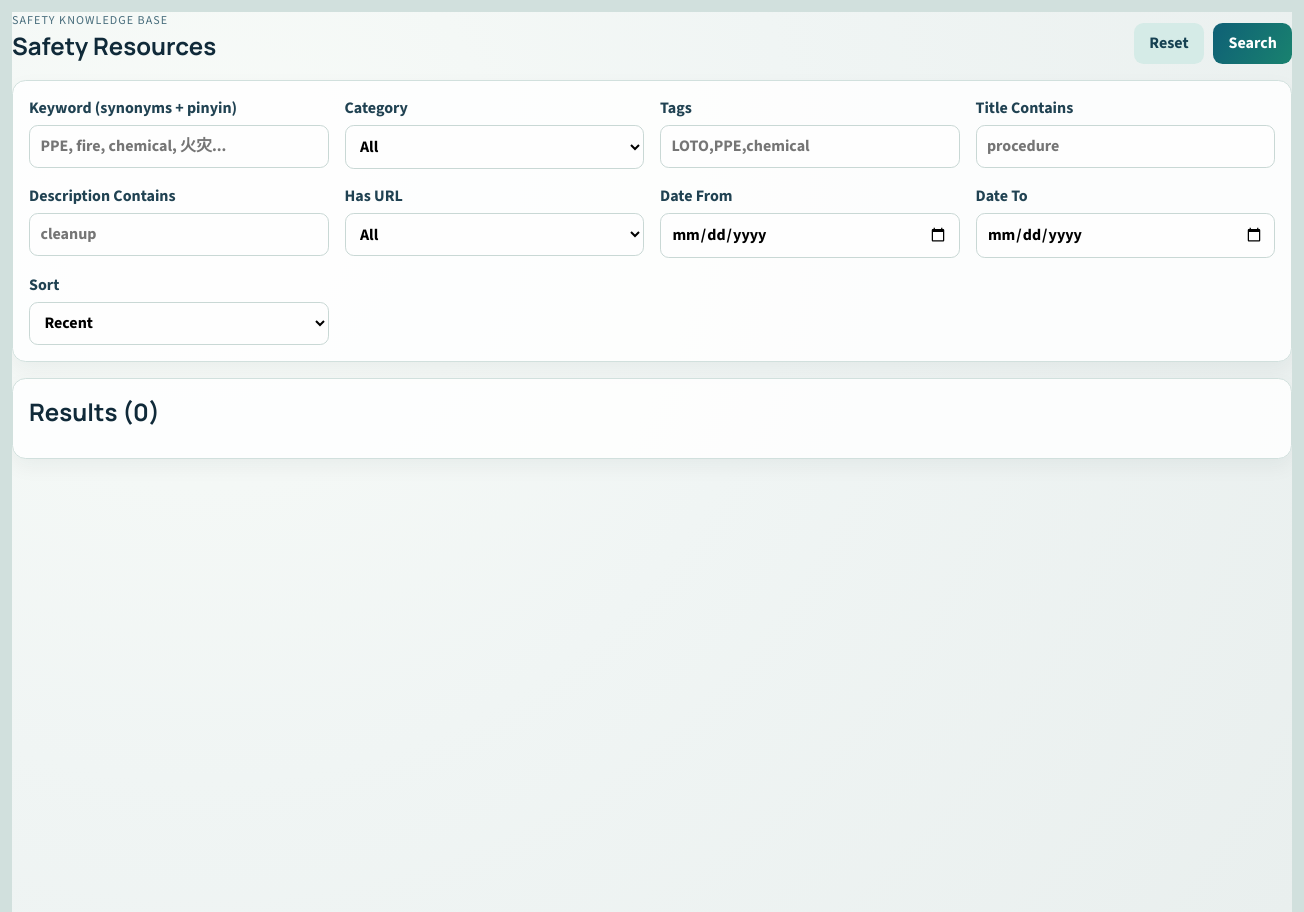
Test case: Resources.vue › resets filters when reset button clicked
Type "fire" into the field labelled "Keyword (synonyms + pinyin)" at (179, 147), box [29,125,328,168]
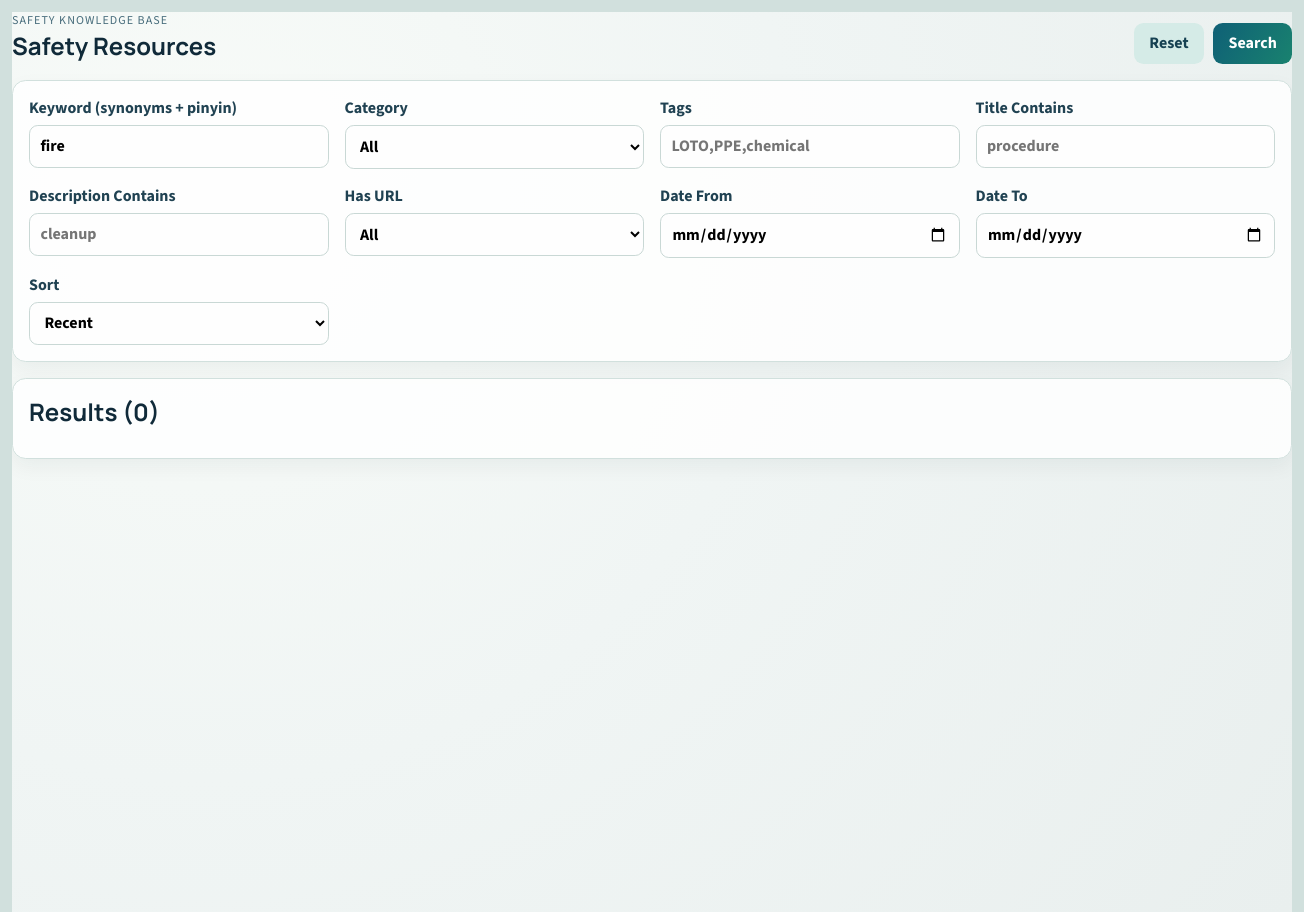
Click the button "Reset" at (1169, 44), box [1134,23,1204,64]
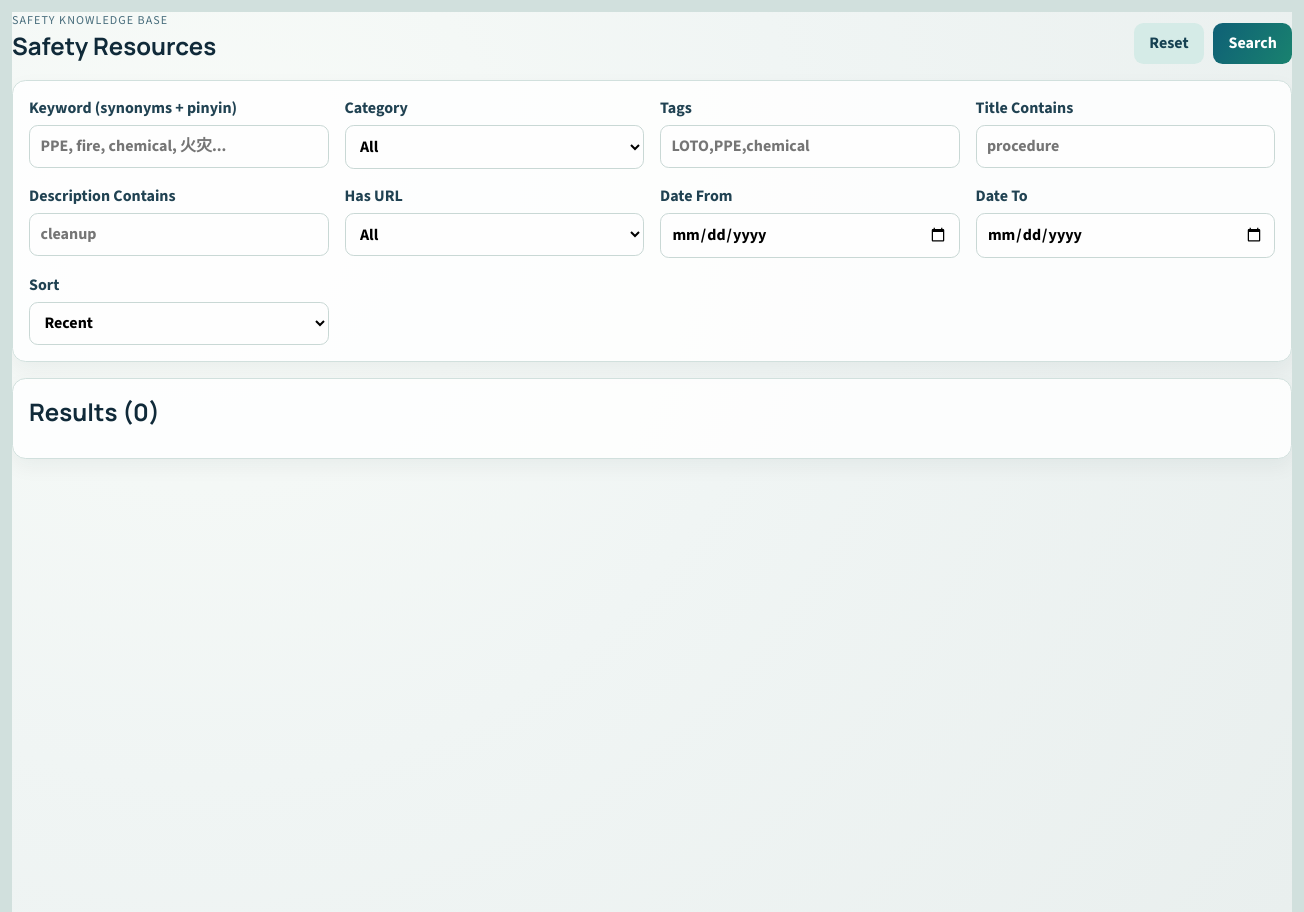
expect the field labelled "Keyword (synonyms + pinyin)" is empty: met, box [29,125,328,168]
